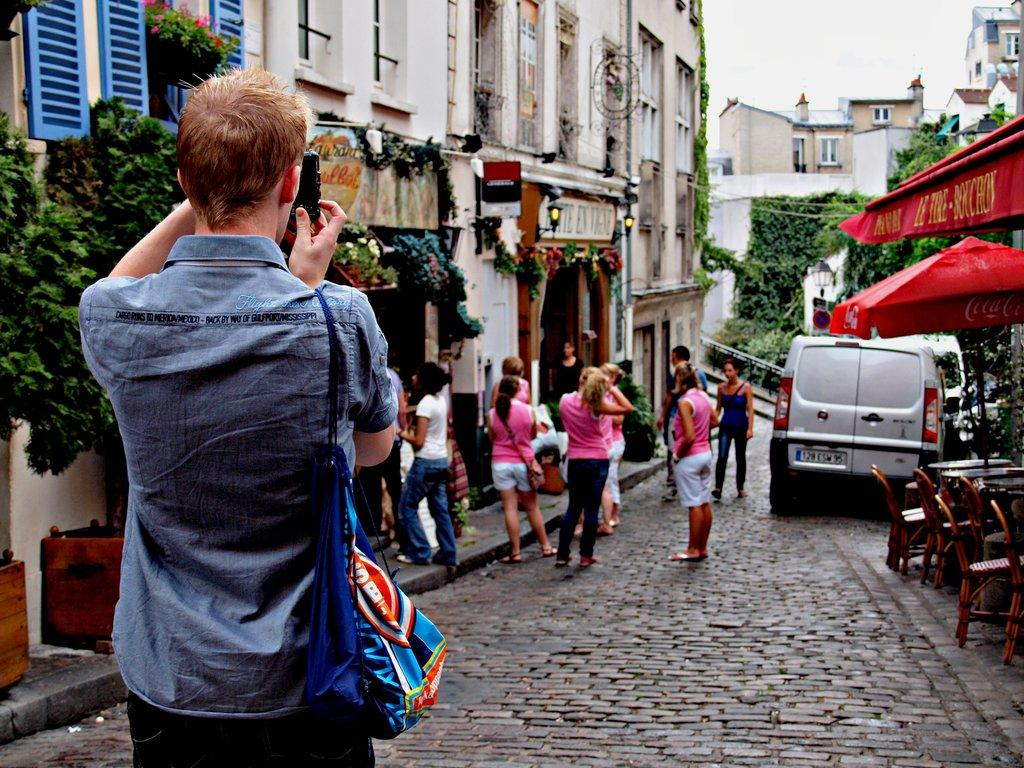vehicle: (769, 337, 946, 513)
